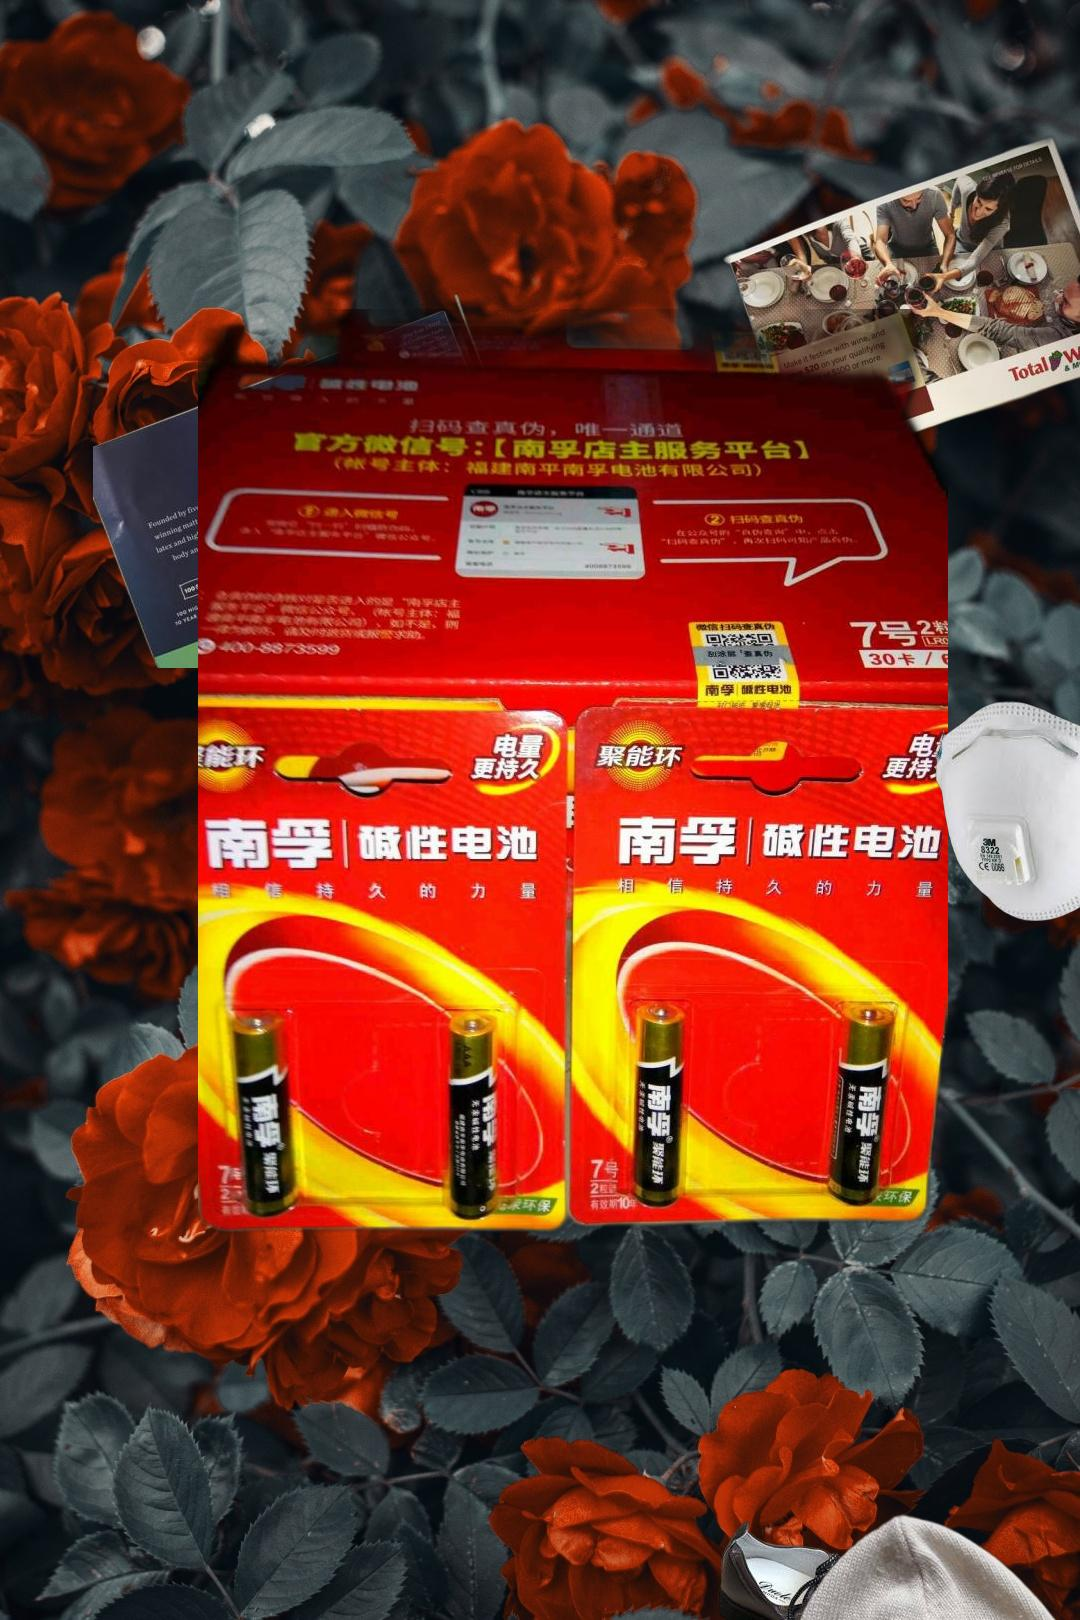battery: (198, 309, 947, 1290)
biological: (230, 606, 419, 794)
clothes: (758, 1499, 1080, 1620)
paper: (93, 290, 559, 668), (693, 133, 1080, 489)
shoes: (545, 1519, 972, 1620), (350, 799, 492, 1022)
trash: (935, 702, 1080, 921)
